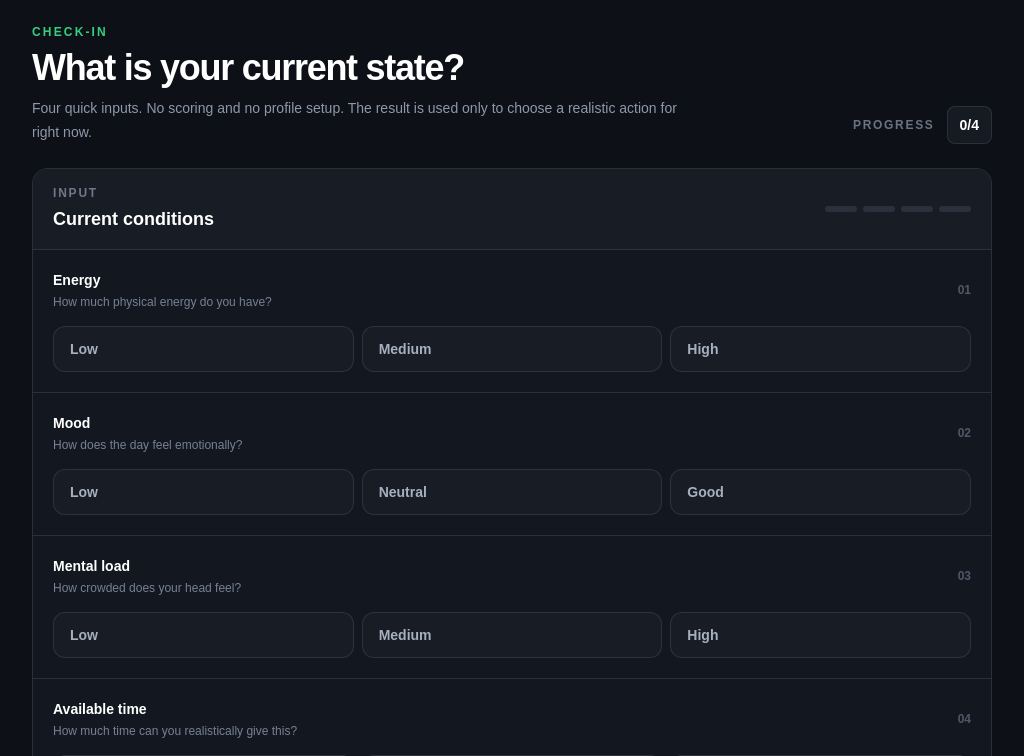
it: Check-in page › updates progress when options are selected
Step 1. Click the button "high" below "01" → (703, 349), box [670, 326, 971, 372]
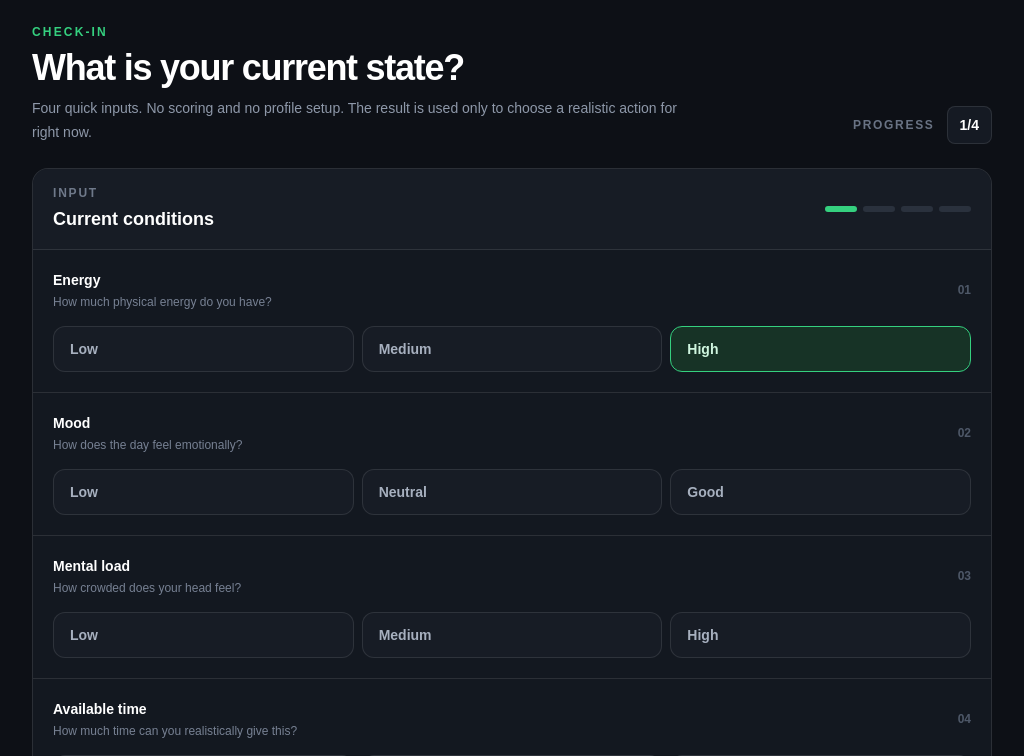
Step 2. Click the button "good" → (706, 492), box [670, 469, 971, 515]
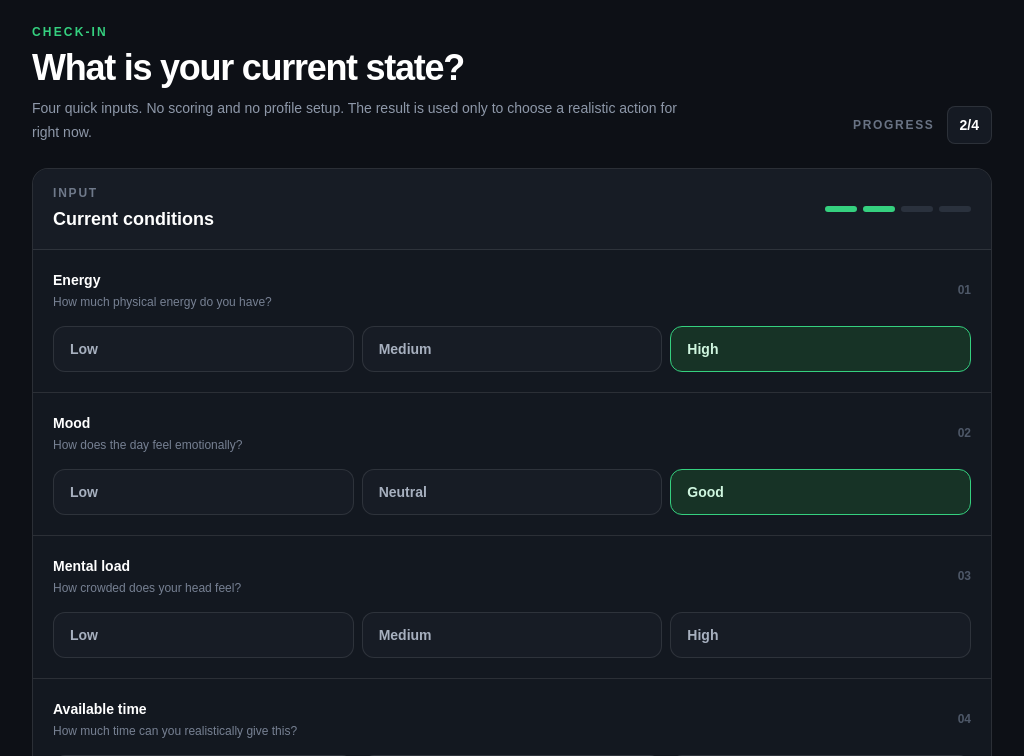
Now the text "2/4" is shown, box [946, 106, 992, 144]
